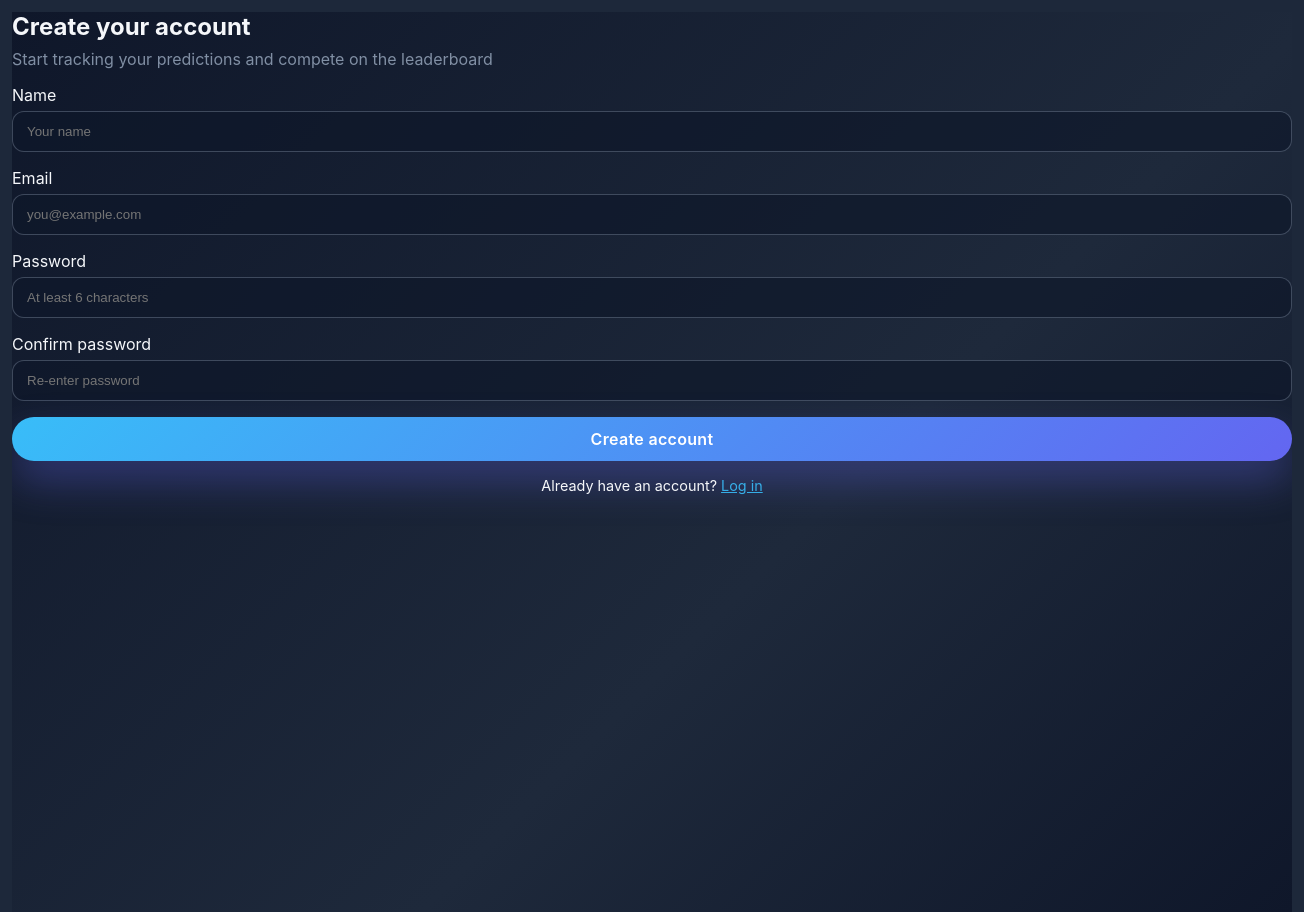
RegisterForm › Error handling › should clear error when submitting again
This screenshot has width=1304, height=912.
Step 1. Type "Test User" into the field labelled "Name" → (652, 132), box [12,111,1292,152]
Step 2. Type "test@example.com" into the field labelled "Email" → (652, 214), box [12,194,1292,235]
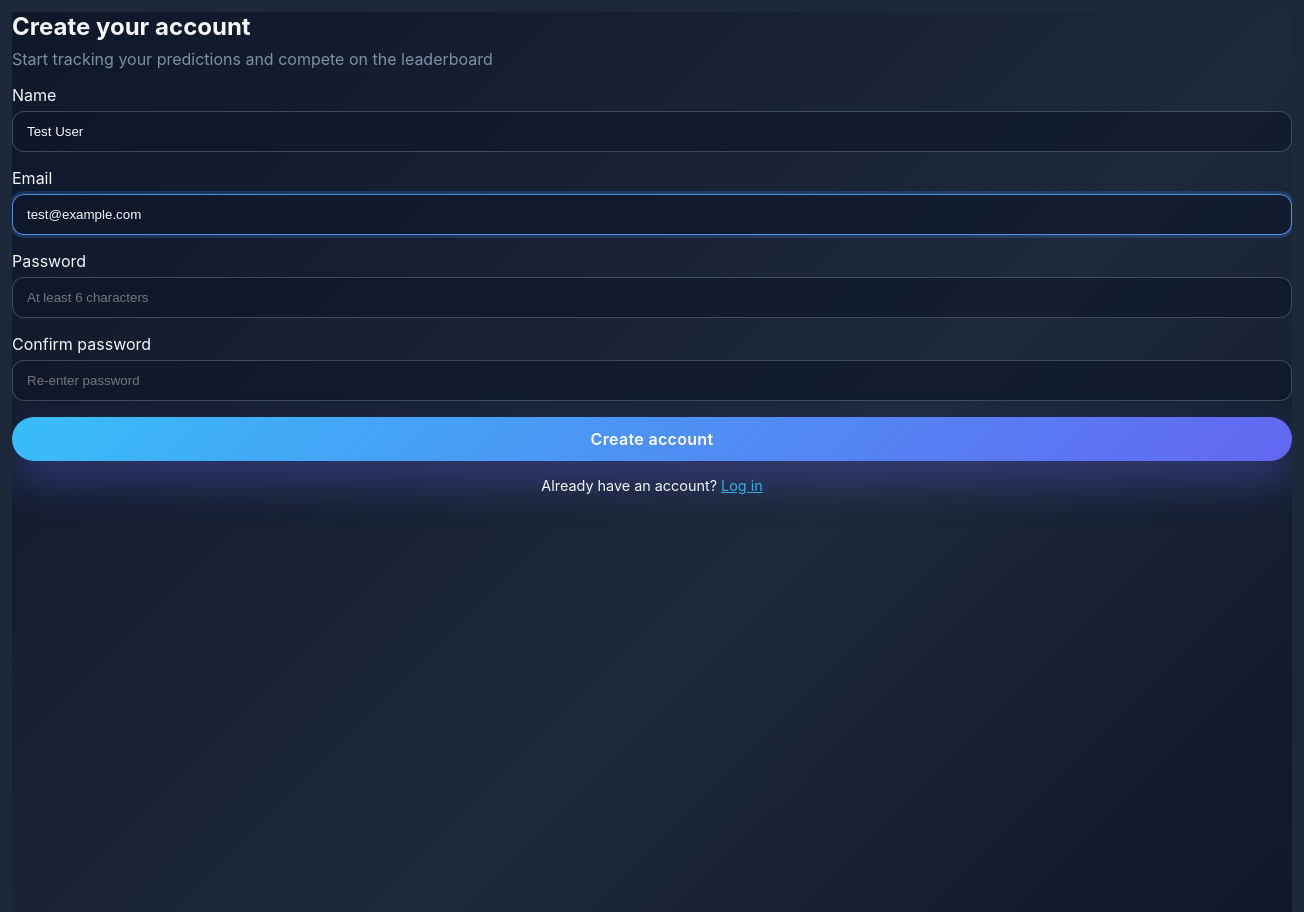
Step 3. Type "password123" into the password field labelled "Password" → (652, 298), box [12,277,1292,318]
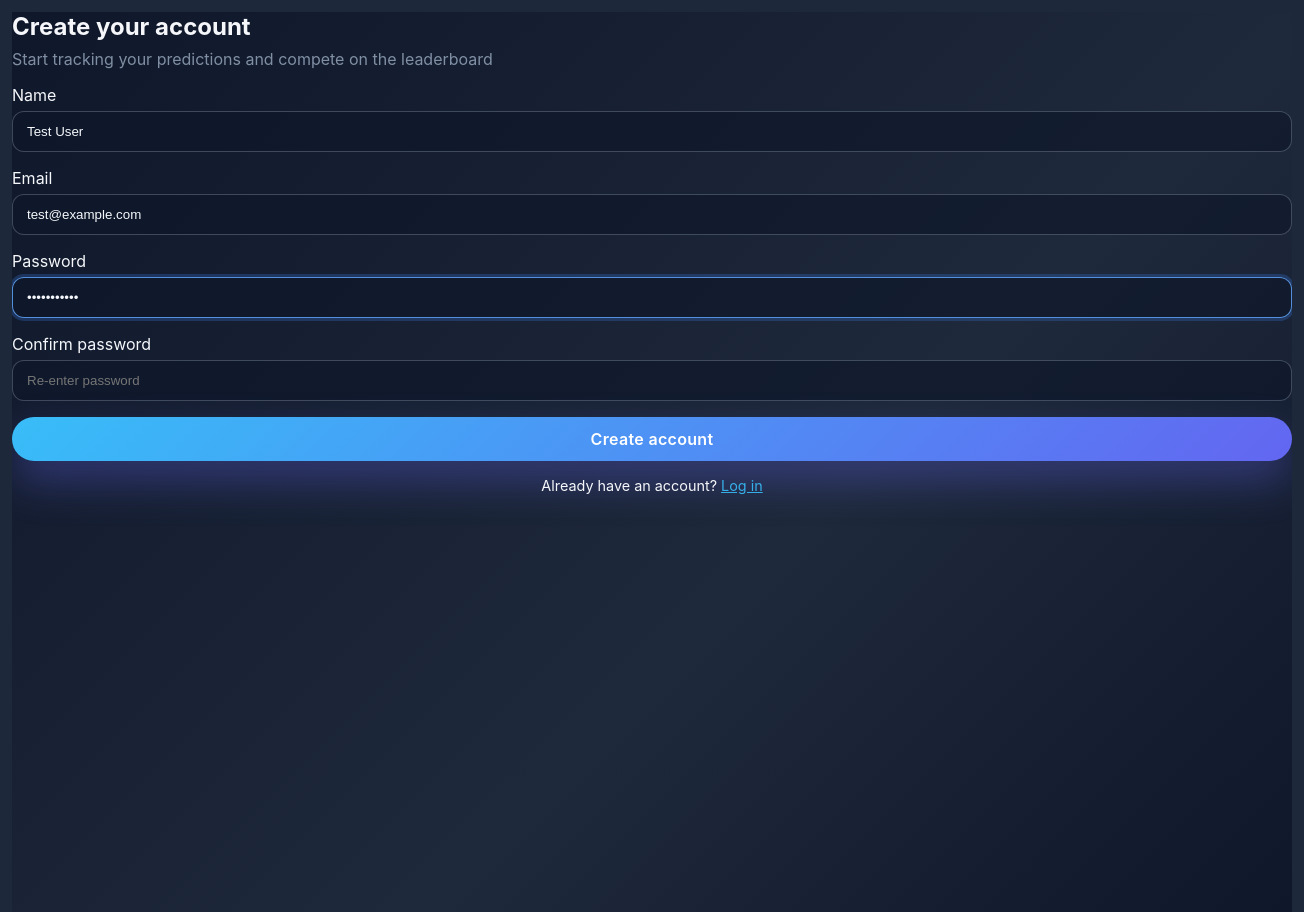
Step 4. Type "password123" into the password field labelled "Confirm password" → (652, 380), box [12,360,1292,401]
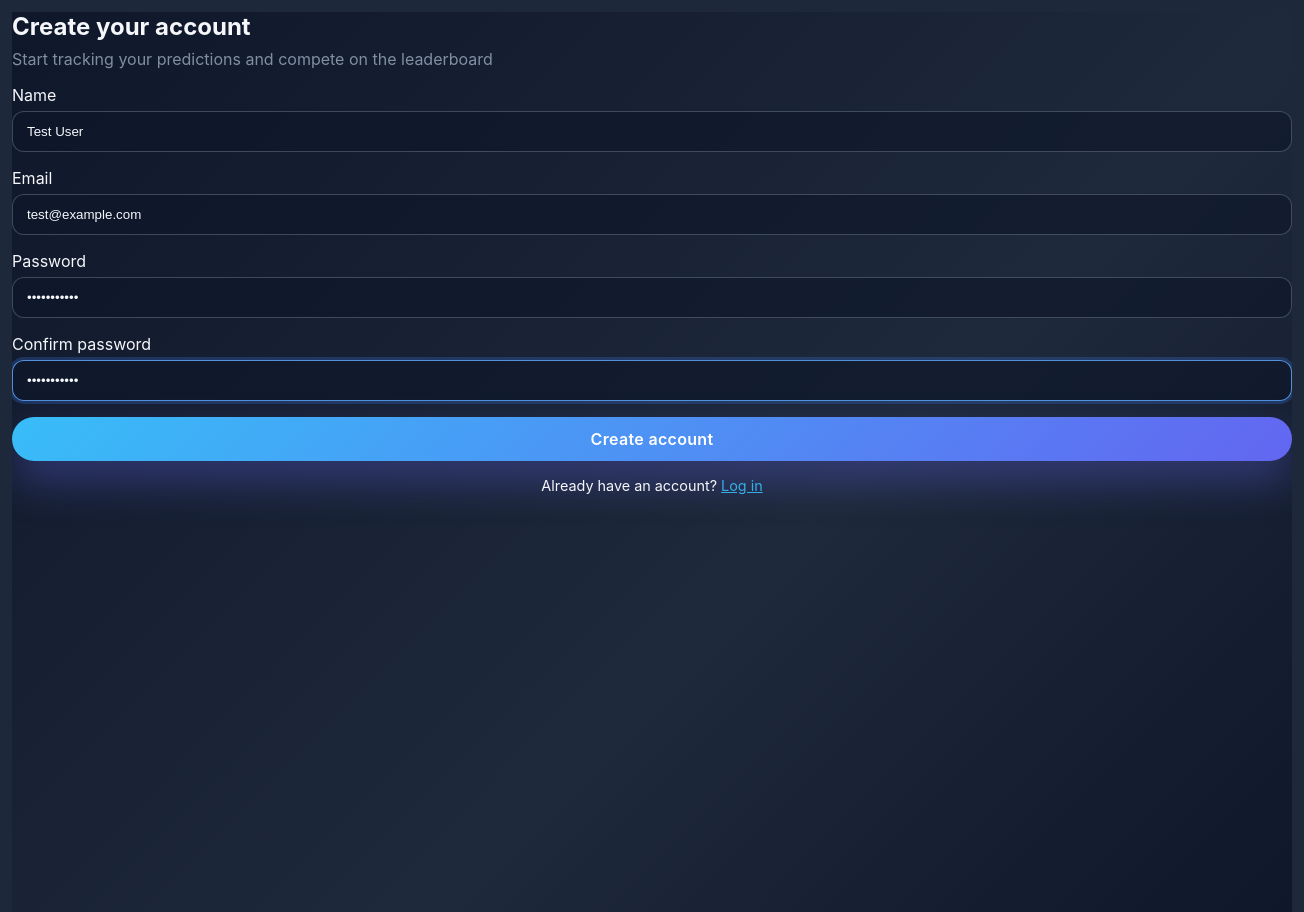
Step 5. Click the button "Create account" → (652, 439), box [12,417,1292,461]
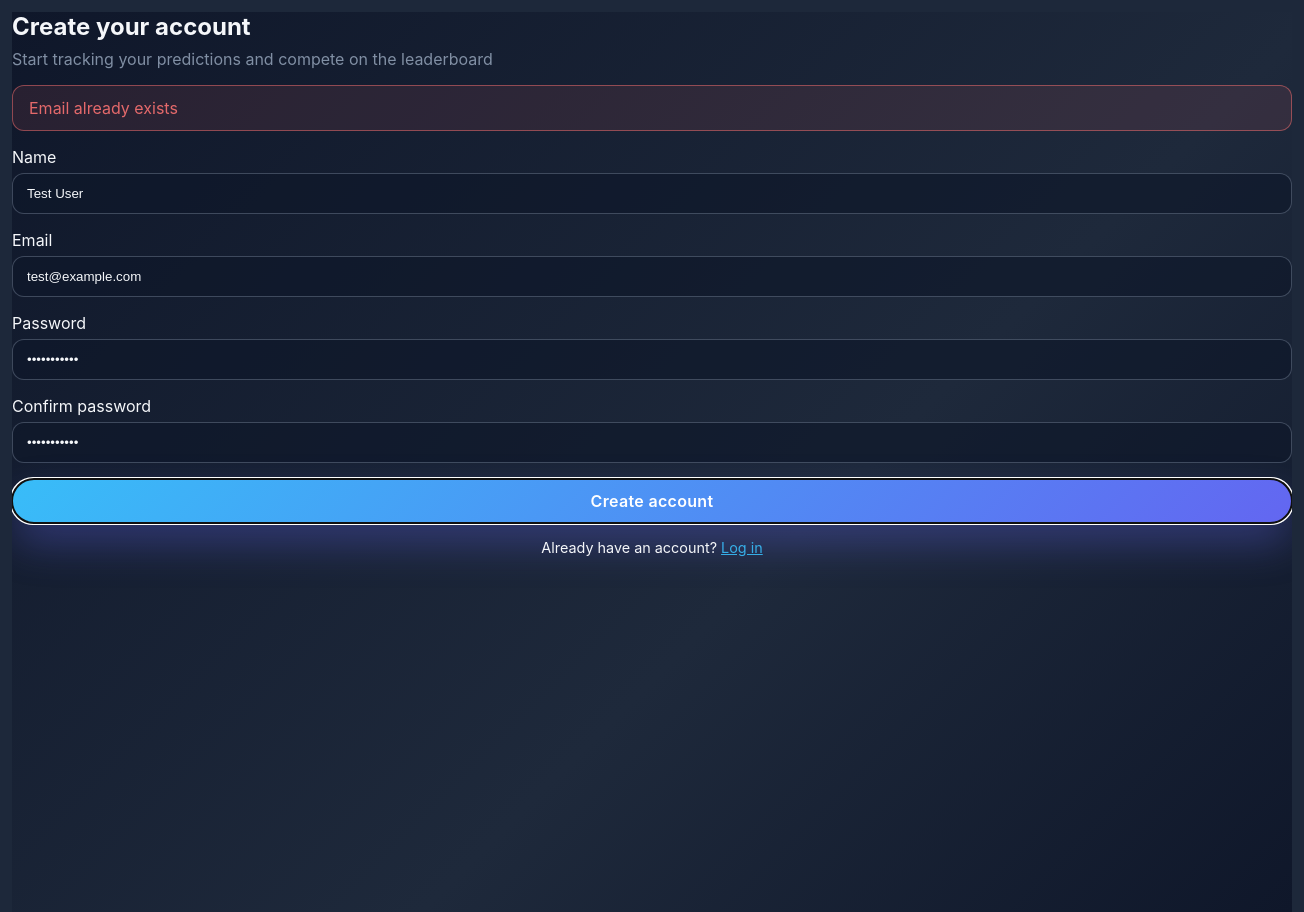
Now the text "Email already exists" is shown, box [12,85,1292,131]
Step 6. Replace the text in the field labelled "Email" with "newemail@example.com" → (652, 276), box [12,256,1292,297]
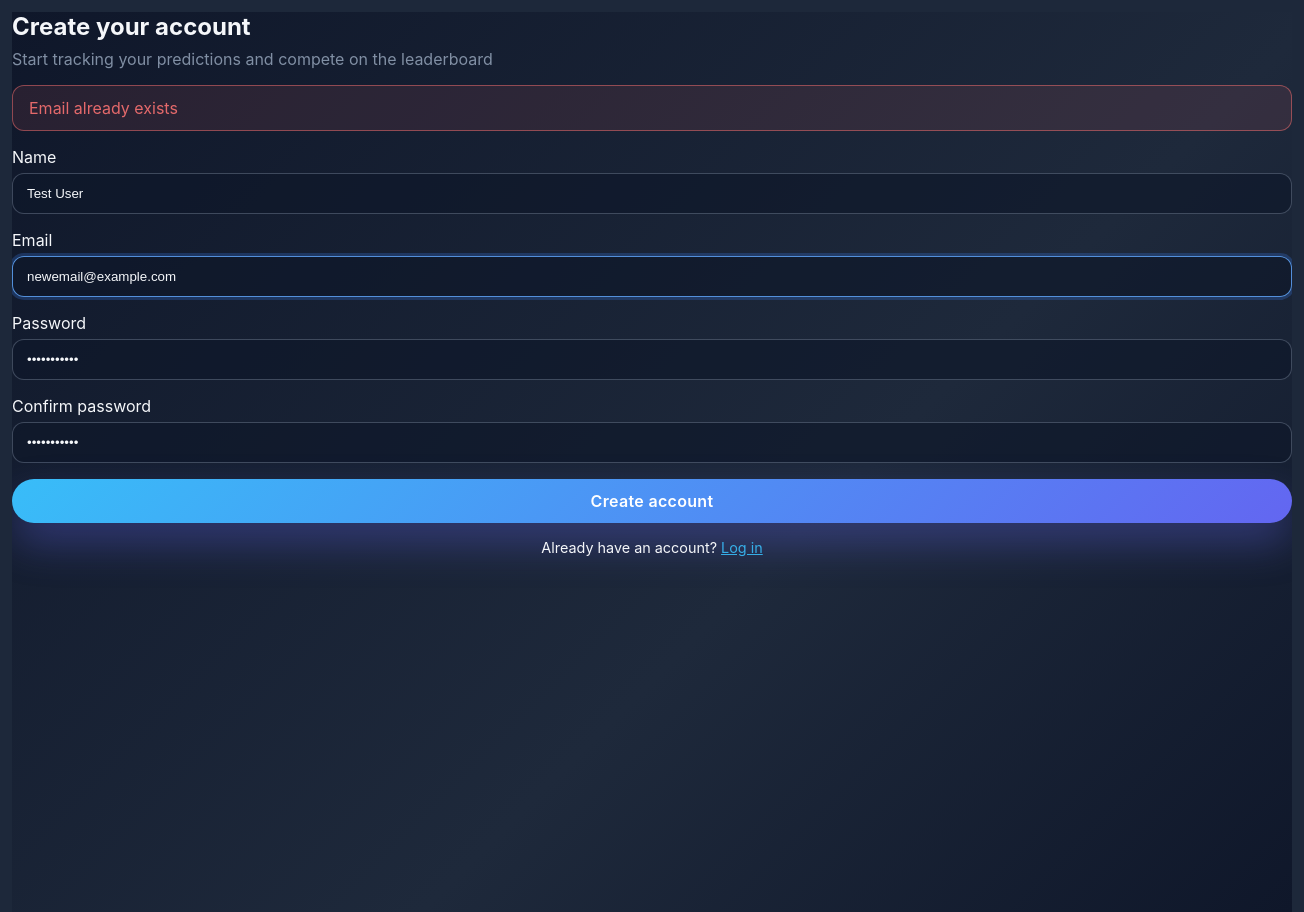
Step 7. Click the button "Create account" → (652, 501), box [12,479,1292,523]
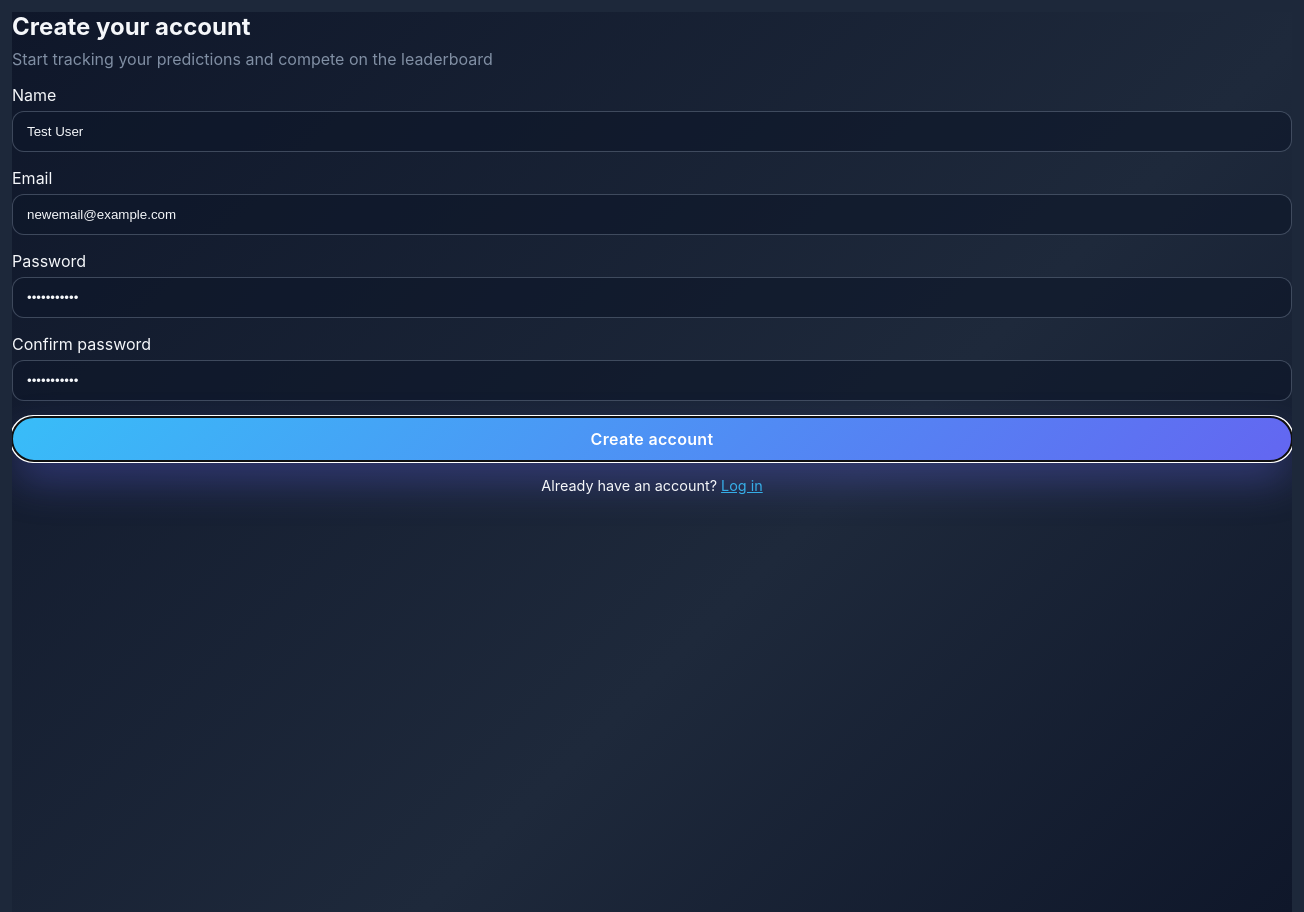
Now the text "Email already exists" is gone
